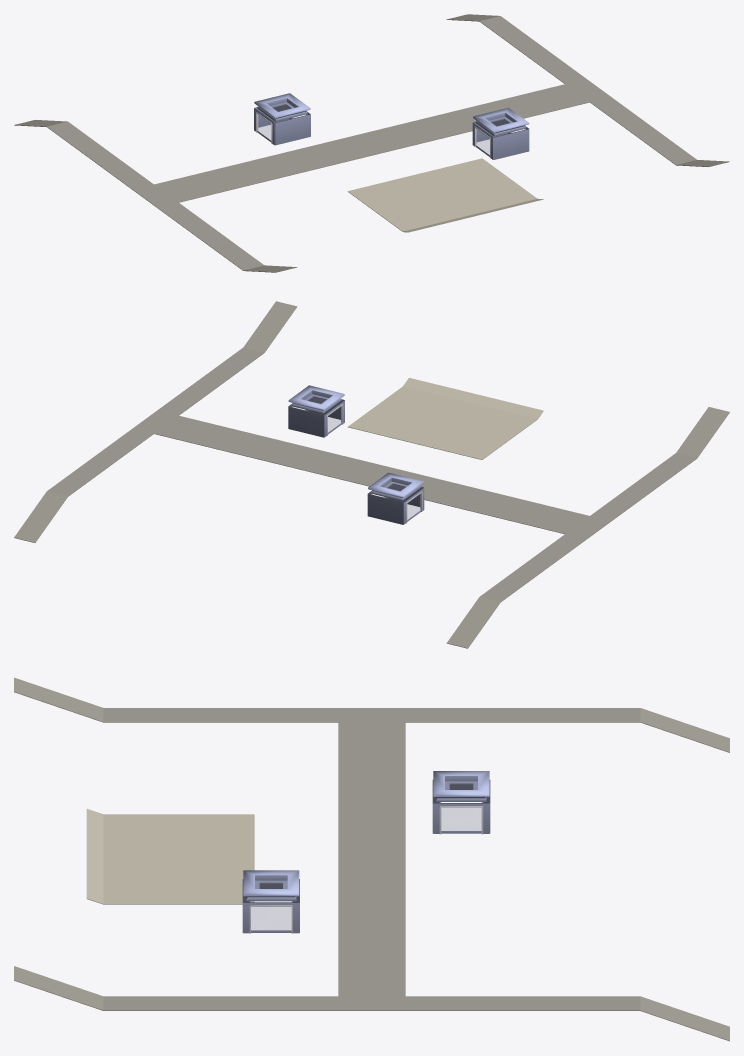
File: town-1-1.glb
3 views of the same model, one above another, from view 1: azimuth 30°, elevation 25°; view 2: azimuth 150°, elevation 25°; view 3: azimuth 270°, elevation 25° (orthographic). The views are drawn at different scales.
Parts seen in each view (by area): view 1: town-1-1; view 2: town-1-1; view 3: town-1-1.
Part boxes in pixels (x1,y1,x2,y2): town-1-1: (14,14,729,272); town-1-1: (14,301,729,648); town-1-1: (14,677,729,1041).
Size of the model in its own units: 128 by 13.7 by 128.
Materials: 20 (16 with a texture image).
